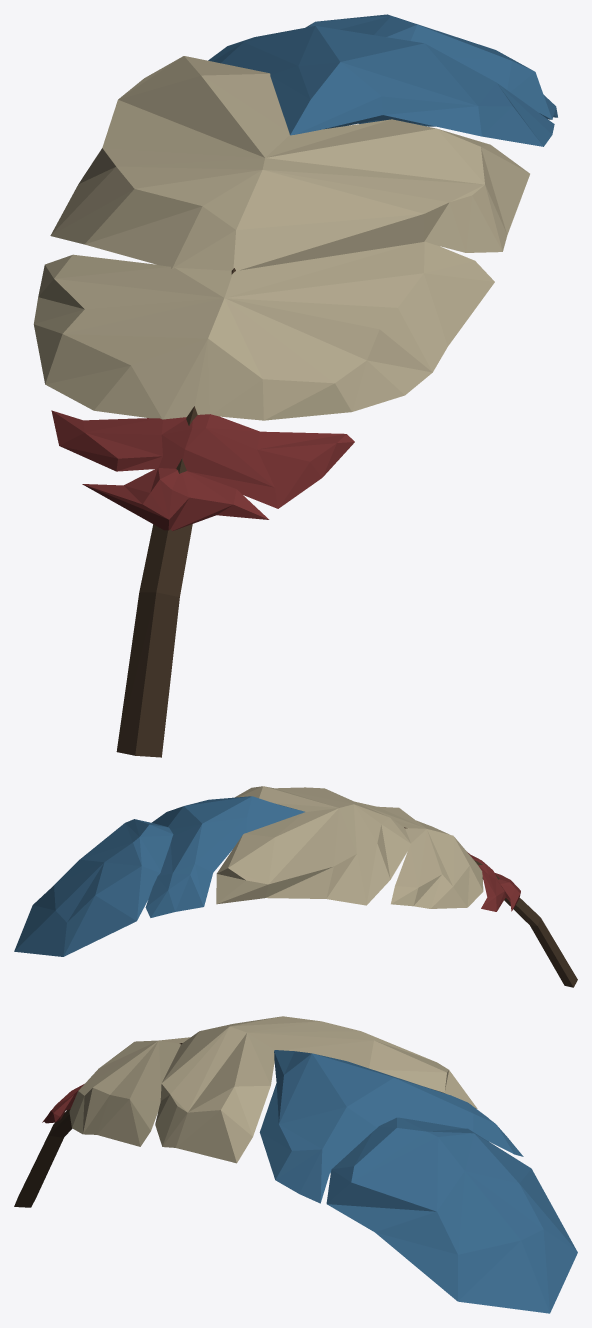
File: Feather_03.FBX
3 renders of one model, top to bottom at view 1: azimuth 30°, elevation 25°; view 2: azimuth 150°, elevation 25°; view 3: azimuth 270°, elevation 25°, orthographic. The views are drawn at different scales.
Parts seen in each view (by area): view 1: Feather_03; view 2: Feather_03; view 3: Feather_03.
Part boxes in pixels (x1,y1,x2,y2): Feather_03: [33, 14, 557, 757]; Feather_03: [14, 786, 577, 987]; Feather_03: [14, 1016, 577, 1313].
Size of the model in its own units: 2.26 by 1.23 by 2.2.
